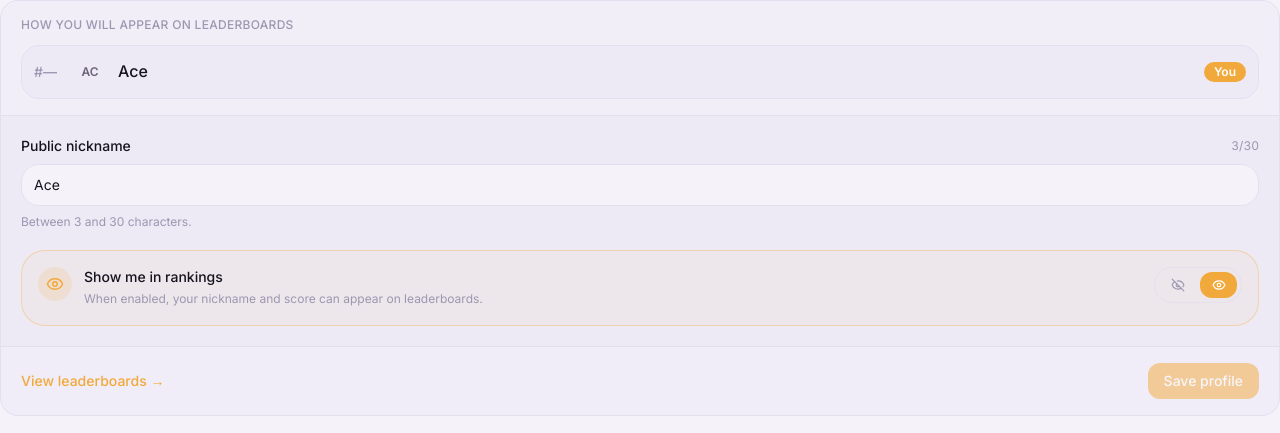
Scenario: ProfileRankingSection › discards unsaved changes
Replace the text in the field labelled "Public nickname" with "DraftNick" at (640, 185), box 21,164 -> 1259,206
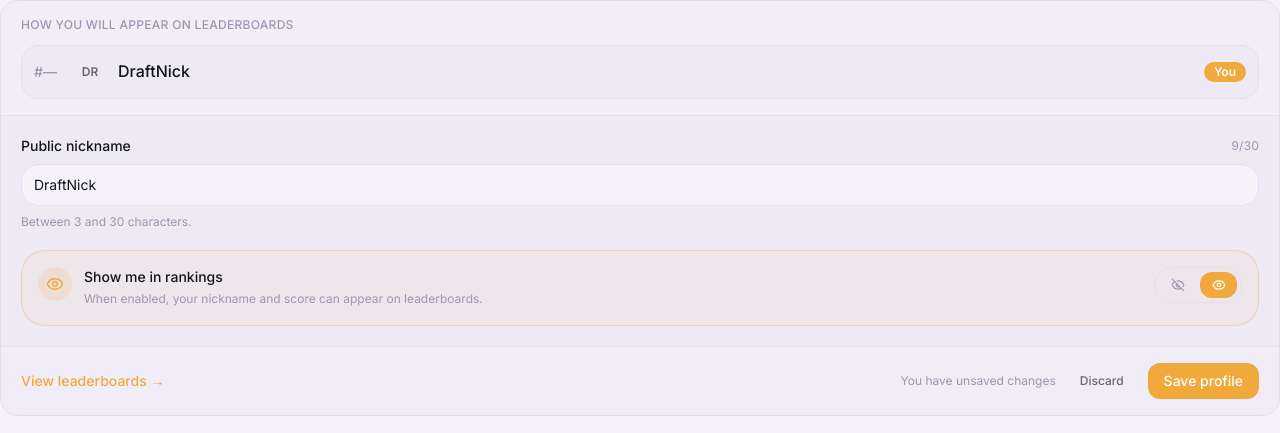
Click the button "Discard" at (1102, 380), box 1068,364 -> 1136,396
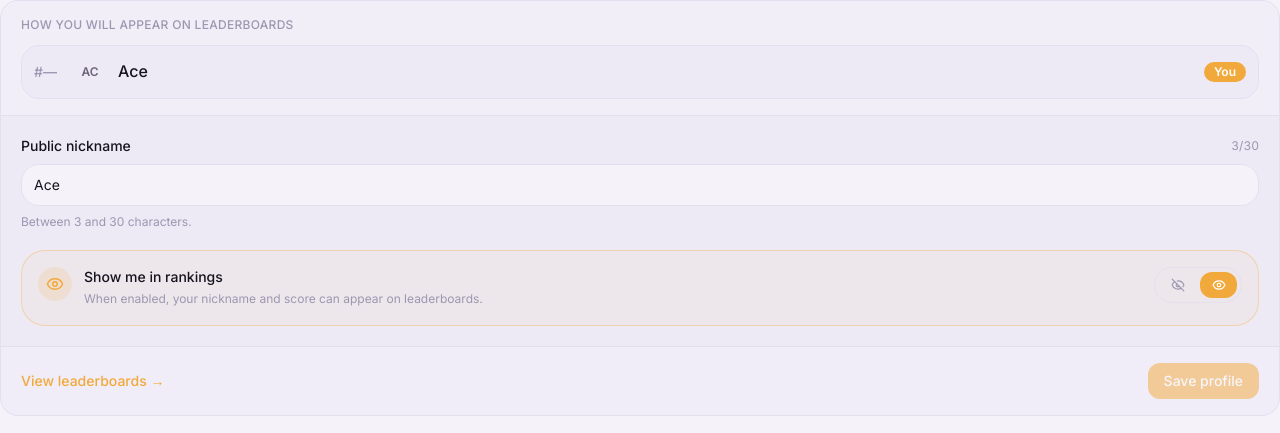
Check: the field labelled "Public nickname" holds "Ace", box 21,164 -> 1259,206
Check: the button "Save profile" is disabled, box 1148,362 -> 1259,398
